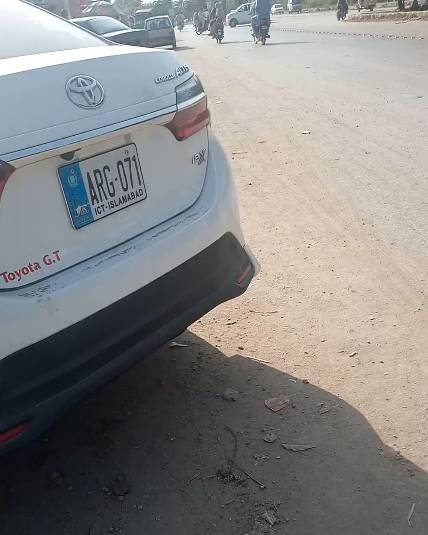number_plate: (56, 148, 156, 226)
